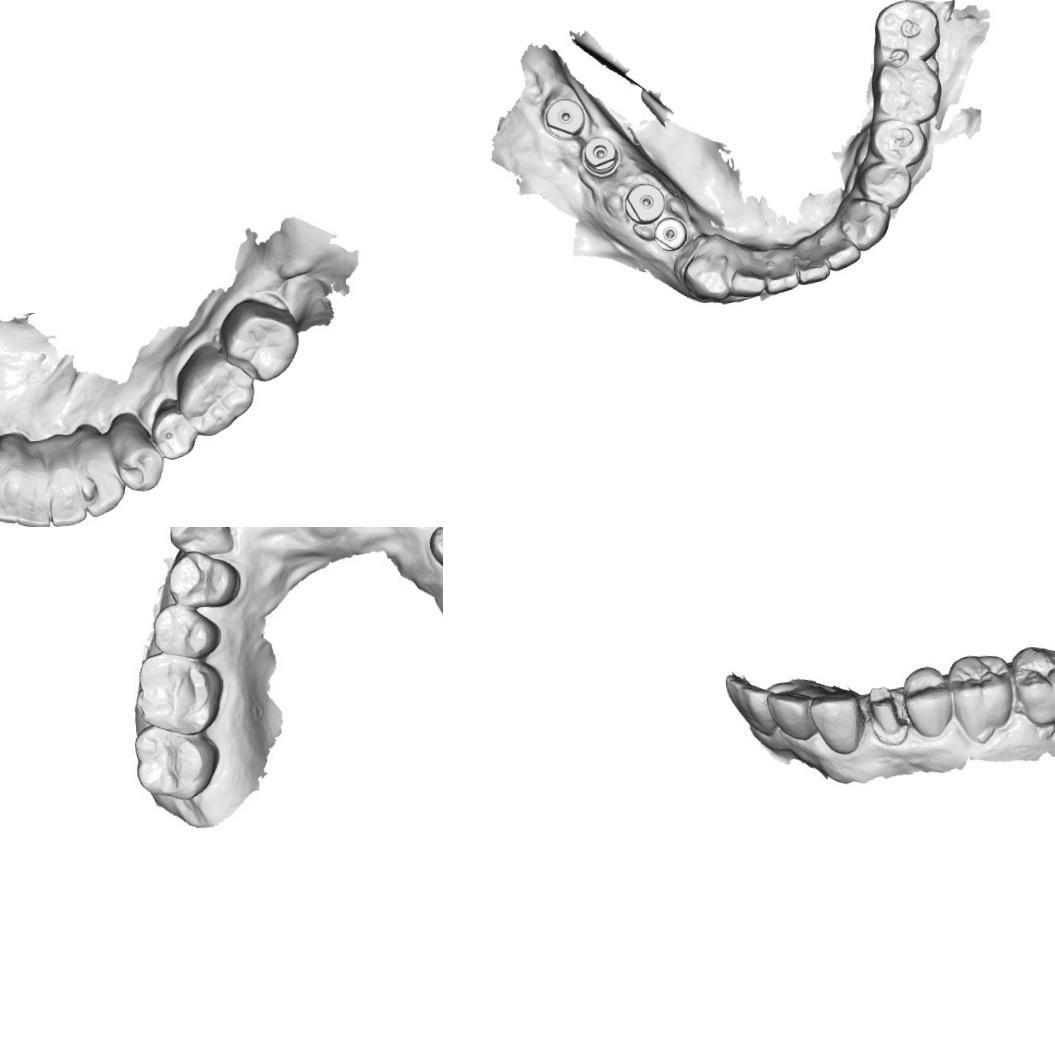canine: (806, 683, 866, 758), (76, 451, 128, 519), (678, 246, 738, 304), (836, 194, 894, 253), (166, 527, 235, 557)
crown: (862, 682, 910, 747)
implant: (572, 128, 625, 178), (618, 175, 667, 224), (539, 91, 584, 138), (649, 212, 693, 254)
incisor: (763, 678, 827, 746), (721, 667, 778, 742), (9, 453, 54, 527), (44, 463, 89, 527), (821, 224, 862, 274), (792, 234, 831, 286), (761, 246, 800, 296), (0, 456, 27, 527), (728, 252, 770, 297)
molar: (172, 336, 262, 443), (222, 284, 306, 384), (129, 647, 222, 734), (127, 724, 219, 804), (944, 651, 1018, 744), (868, 0, 946, 67), (871, 54, 945, 121), (1007, 640, 1055, 730)
premolar: (108, 408, 168, 494), (164, 548, 241, 610), (899, 660, 954, 742), (146, 395, 200, 463), (152, 605, 221, 658), (856, 156, 915, 212), (866, 118, 926, 168)
